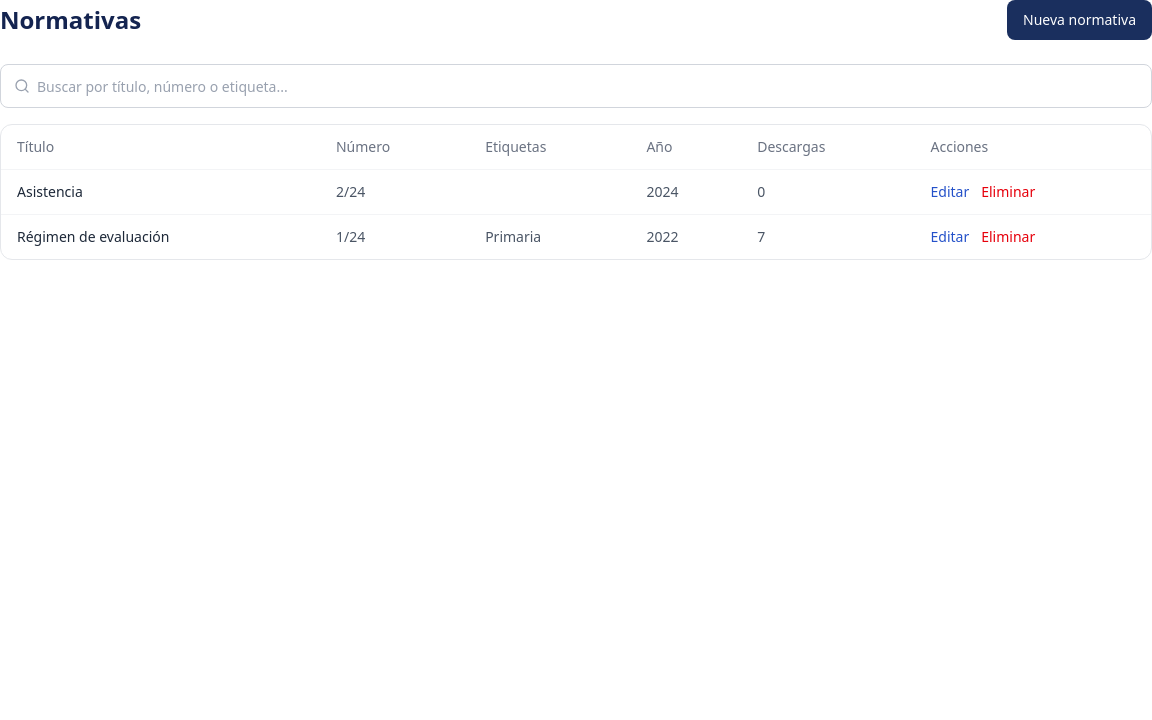
NormativasAdminPage: eliminar (criterio 4) › si falla el borrado de la fila avisa con un alert y no borra el archivo
This screenshot has width=1152, height=720.
Click the button "Eliminar" in the row of "Régimen de evaluación" at (1008,237), box [981,227,1035,247]
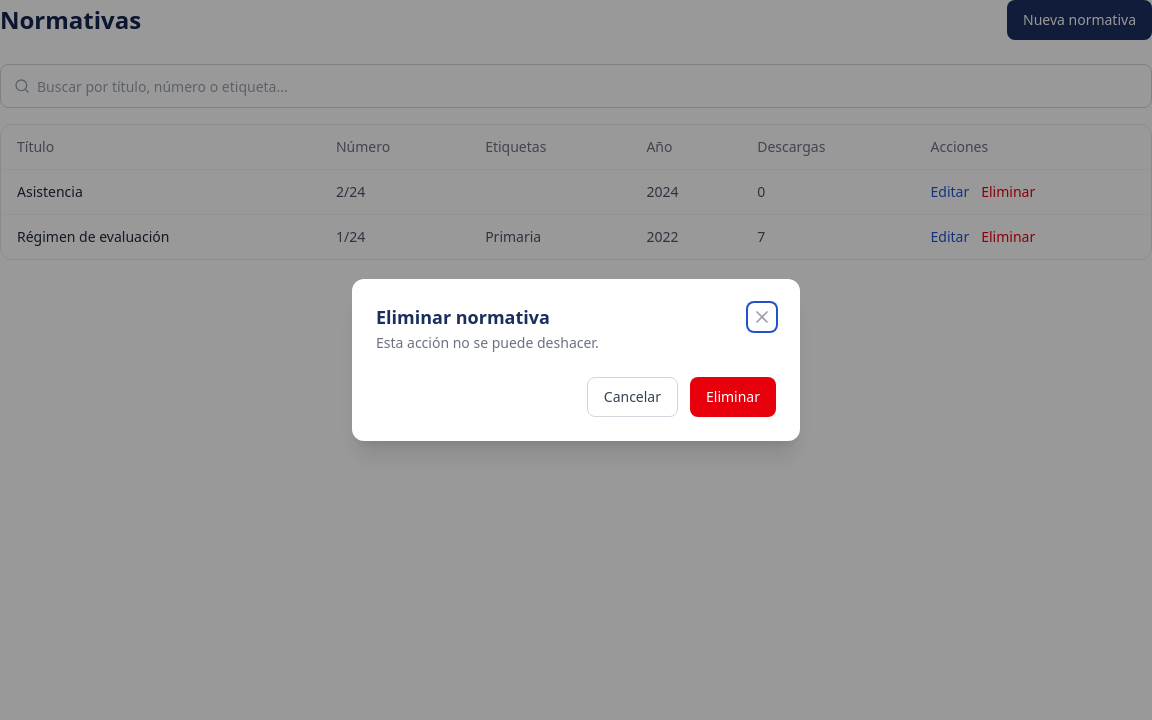
Click the button "Eliminar" at (733,397), box [690,377,776,417]
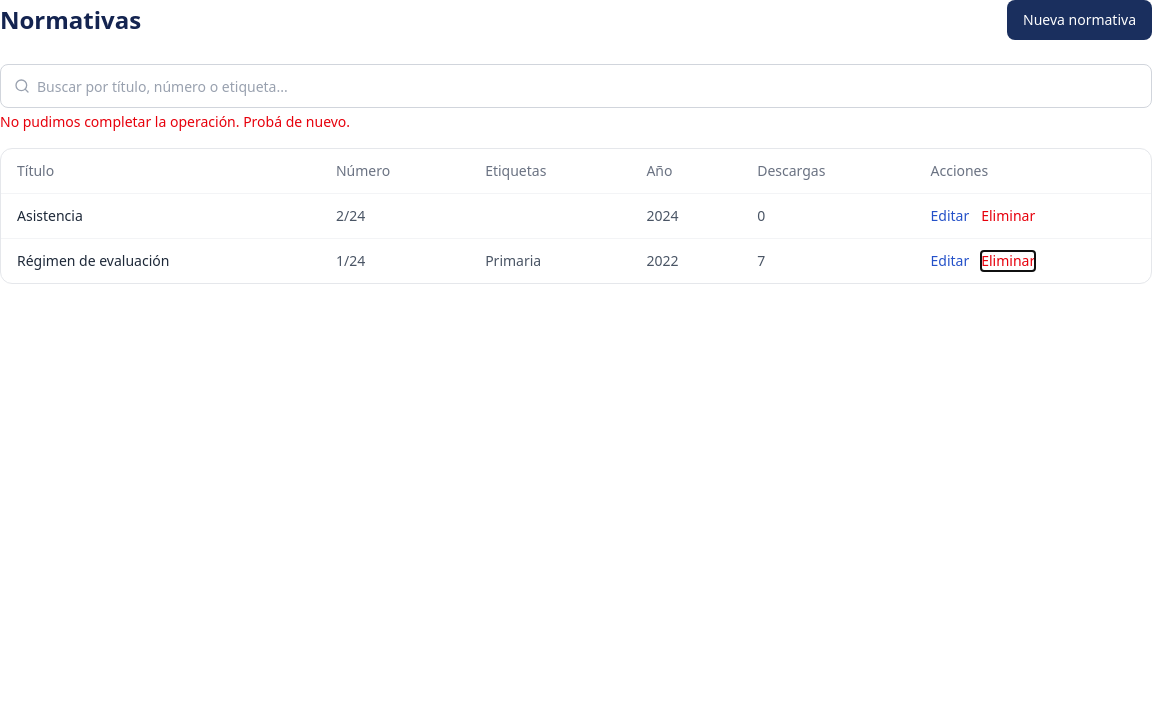
Now the message "No pudimos completar la operación. Probá de nuevo." is shown, box [0,112,350,131]
